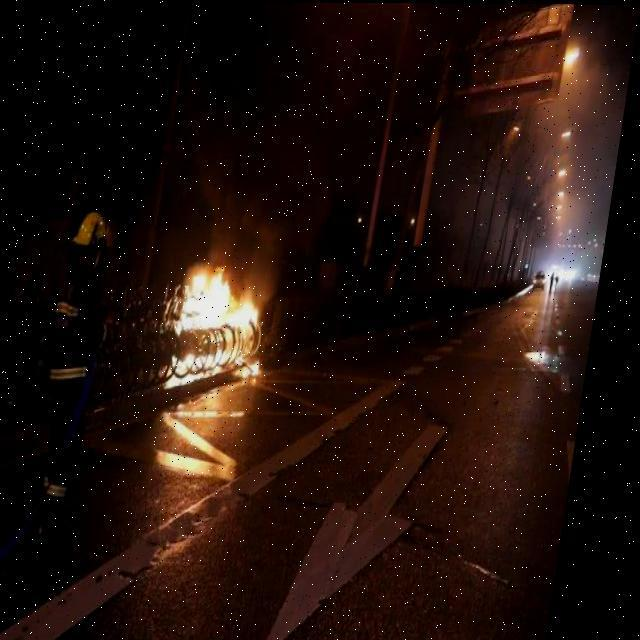Fire: (168, 260, 288, 391)
